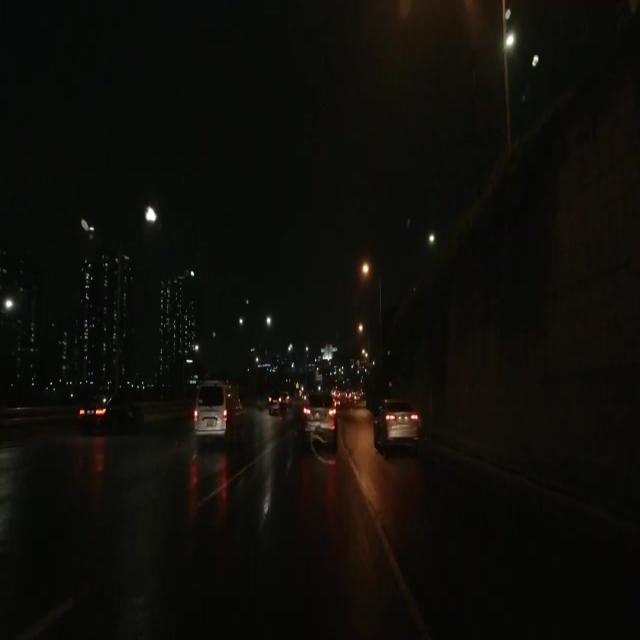Car: (191, 381, 240, 442), (75, 393, 144, 435), (372, 397, 417, 450), (303, 385, 336, 435)
